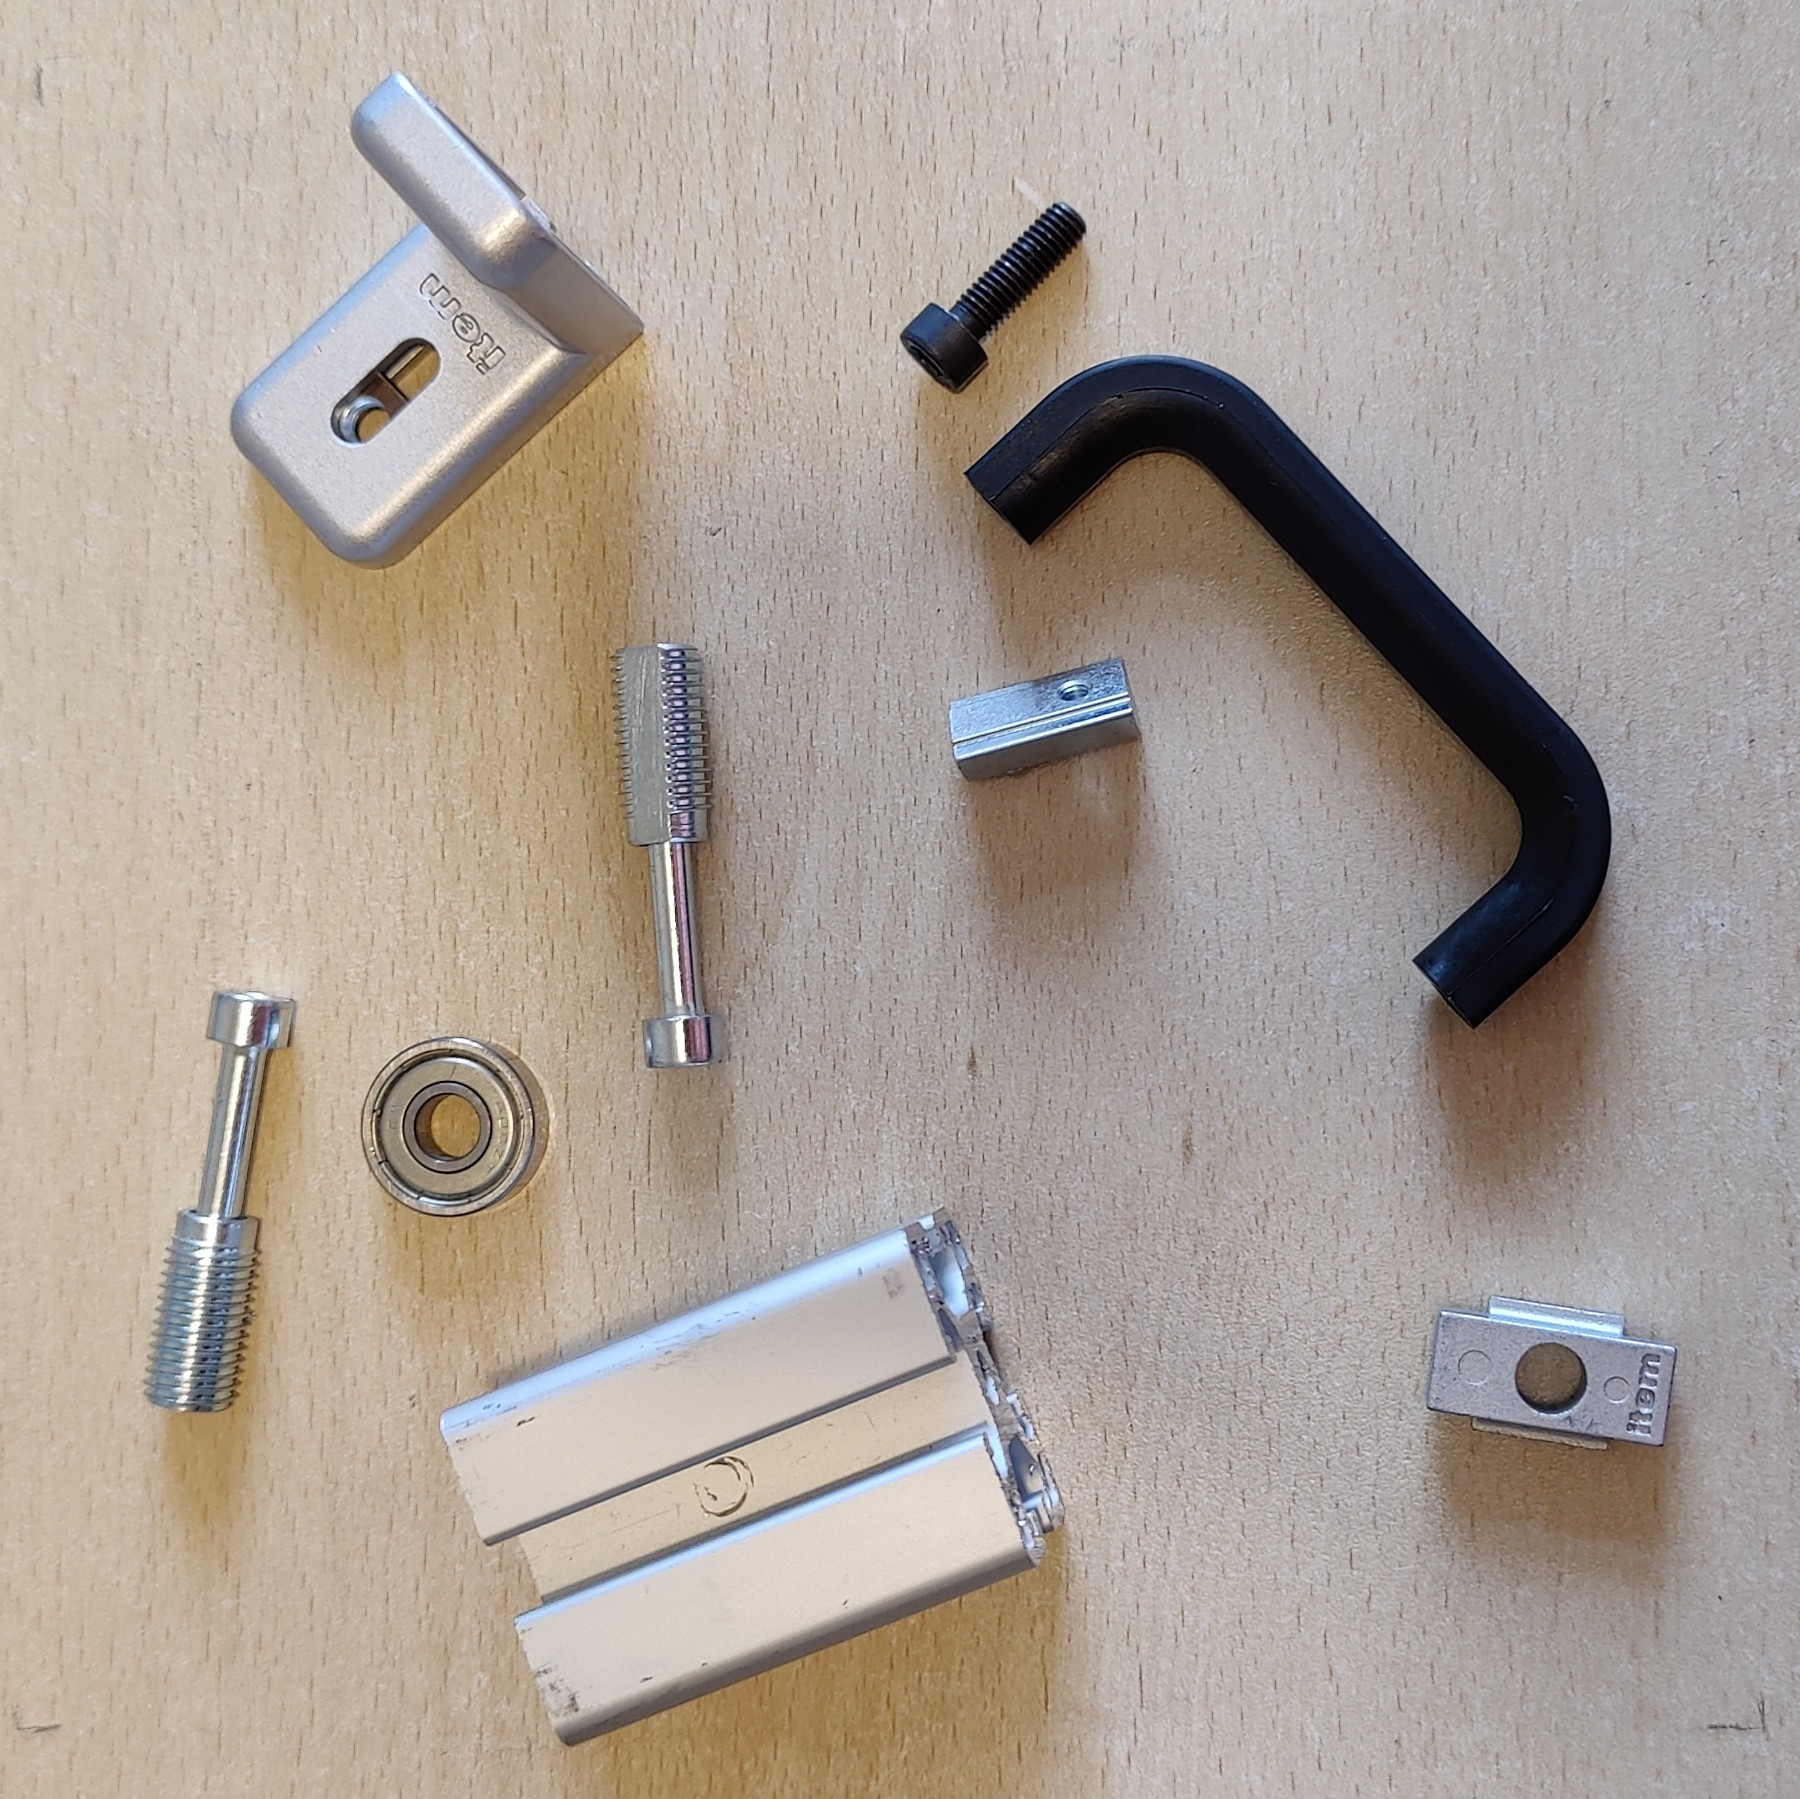Aluminium Extension: (436, 1203, 1070, 1750)
Ball Bearing: (359, 1035, 552, 1217)
Multiwinkel: (227, 68, 651, 572)
Pull Handle: (962, 354, 1612, 1030)
Shoulder Socket Head Cap Screw: (138, 984, 298, 1417), (604, 639, 734, 1076)
Socket Head Cap Screw: (898, 196, 1089, 395)
T Nut Square: (1420, 1292, 1681, 1456)
T Spring Nut: (944, 652, 1146, 784)
